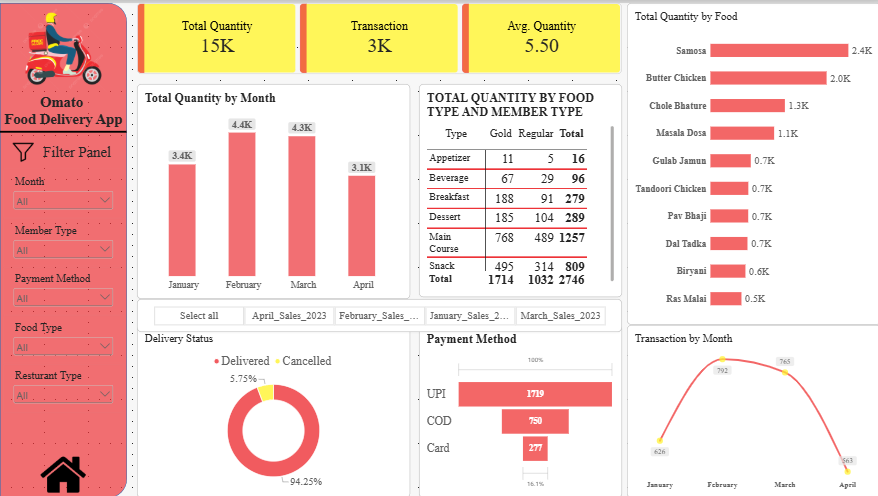

The dashboard page shown, as its layout file describes it:
{"tool":"powerbi","page":{"name":"OMATO_Dashboard","canvas":[1920,1080],"ordinal":0},"visuals":[{"type":"shape","box":[0,0,277.1,1080],"z":0},{"type":"image","box":[32.4,0,211.7,198.7],"z":1000},{"type":"textbox","box":[0,198.7,276.5,103.7],"z":2000},{"type":"shape","box":[0,231.1,276.5,99.4],"z":3000},{"type":"cardVisual","fields":{"Data":["Sales Data.Total Quantity","Sales Data.Transaction","Sales Data.Avg. Quantity"]},"box":[298.9,0,1058.2,154.9],"z":4000},{"type":"columnChart","fields":{"Category":["Sales Data.orderDate.Variation.Date Hierarchy.Month"],"Y":["Sales Data.Total Quantity"]},"box":[298.1,177.1,595.6,469.1],"z":5000},{"type":"pivotTable","title":"TOTAL QUANTITY BY FOOD TYPE AND MEMBER TYPE","fields":{"Columns":["Customer Details.member_Type"],"Rows":["Food_Details.Type"],"Values":["Sales Data.Transaction"]},"box":[914.2,176.7,442.9,464.7],"z":6000},{"type":"donutChart","title":"Delivery Status","fields":{"Category":["Sales Data.deliver_status"],"Y":["CountNonNull(Sales Data.deliver_status)"]},"box":[298.9,702.5,595.6,377.5],"z":7000},{"type":"funnel","title":"Payment Method","fields":{"Category":["Sales Data.payment_method"],"Y":["Sales Data.Transaction"]},"box":[914,703,443,377],"z":8000},{"type":"clusteredBarChart","fields":{"Category":["Food_Details.Food"],"Y":["Sales Data.Total Quantity"]},"box":[1367.3,0,553,702],"z":9000},{"type":"lineChart","fields":{"Category":["Sales Data.orderDate.Variation.Date Hierarchy.Month"],"Y":["Sales Data.Transaction"]},"box":[1367,703,553,377],"z":10000},{"type":"slicer","fields":{"Values":["Sales Data.orderDate.Variation.Date Hierarchy.Month"]},"box":[8.6,362.9,259.2,105.8],"z":11000},{"type":"slicer","fields":{"Values":["Customer Details.member_Type"]},"box":[8.6,468.7,259.2,105.8],"z":12000},{"type":"slicer","fields":{"Values":["Sales Data.payment_method"]},"box":[8.6,574.6,259.2,105.8],"z":13000},{"type":"slicer","fields":{"Values":["Food_Details.Type"]},"box":[8.6,680.4,259.2,105.8],"z":14000},{"type":"slicer","fields":{"Values":["Resturant_Details.Resturant_type"]},"box":[8.6,786.2,259.2,105.8],"z":15000},{"type":"image","box":[8.6,302.4,84.2,45.4],"z":16000},{"type":"textbox","box":[92.9,306.7,166.3,56.2],"z":17000},{"type":"image","box":[64.8,980.6,144.7,99.4],"z":18000},{"type":"slicer","fields":{"Values":["Sales Data.Month_And_Year"]},"box":[298.9,645.8,1058.2,72],"z":19000}]}

Visuals, with their boxes in screenshot pixels (x1, y1, x2, y2), scaled from the page's 1920x1080 canvas onto the 878x496 screenshot:
shape: [left=0, top=0, right=127, bottom=495]
image: [left=15, top=0, right=112, bottom=91]
textbox: [left=0, top=91, right=126, bottom=139]
shape: [left=0, top=106, right=126, bottom=152]
cardVisual - Sales Data.Total Quantity x Sales Data.Transaction: [left=137, top=0, right=621, bottom=71]
columnChart - Sales Data.orderDate.Variation.Date Hierarchy.Month x Sales Data.Total Quantity: [left=136, top=81, right=409, bottom=297]
"TOTAL QUANTITY BY FOOD TYPE AND MEMBER TYPE" pivotTable: [left=418, top=81, right=621, bottom=295]
"Delivery Status" donutChart: [left=137, top=323, right=409, bottom=495]
"Payment Method" funnel: [left=418, top=323, right=621, bottom=495]
clusteredBarChart - Food_Details.Food x Sales Data.Total Quantity: [left=625, top=0, right=877, bottom=322]
lineChart - Sales Data.orderDate.Variation.Date Hierarchy.Month x Sales Data.Transaction: [left=625, top=323, right=877, bottom=495]
slicer - Sales Data.orderDate.Variation.Date Hierarchy.Month: [left=4, top=167, right=122, bottom=215]
slicer - Customer Details.member_Type: [left=4, top=215, right=122, bottom=264]
slicer - Sales Data.payment_method: [left=4, top=264, right=122, bottom=312]
slicer - Food_Details.Type: [left=4, top=312, right=122, bottom=361]
slicer - Resturant_Details.Resturant_type: [left=4, top=361, right=122, bottom=410]
image: [left=4, top=139, right=42, bottom=160]
textbox: [left=42, top=141, right=119, bottom=167]
image: [left=30, top=450, right=96, bottom=495]
slicer - Sales Data.Month_And_Year: [left=137, top=297, right=621, bottom=330]
